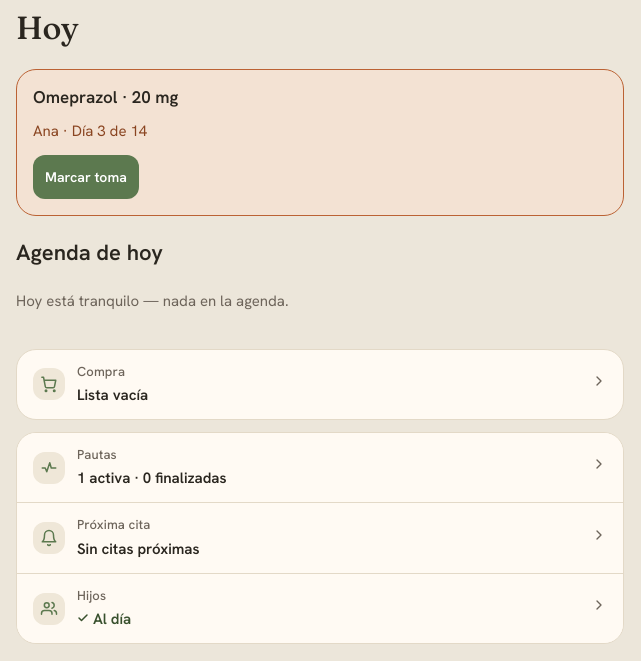
Test: HoyPage — pautas de Miembros adultos (issue 03) › marcar toma desde el héroe funciona para pautas de Miembros
Click the button "Marcar toma" at (86, 177), box [33,155,139,199]
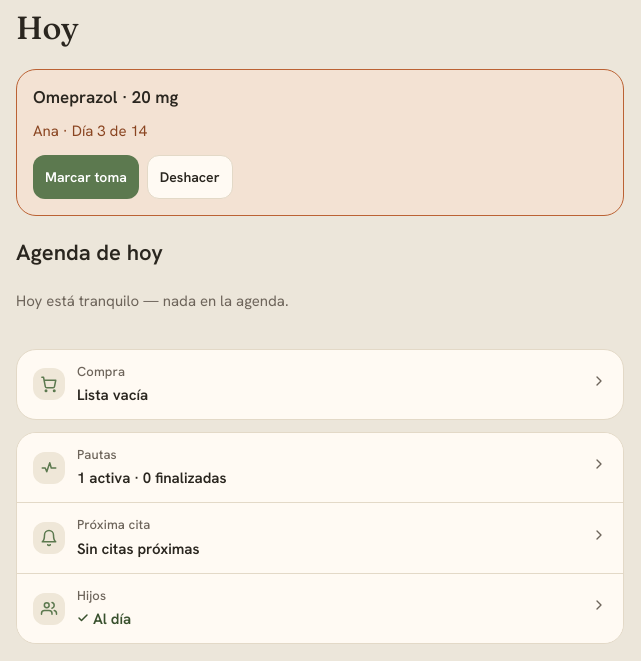
Now the button "Deshacer" is shown, box [147,155,233,199]
